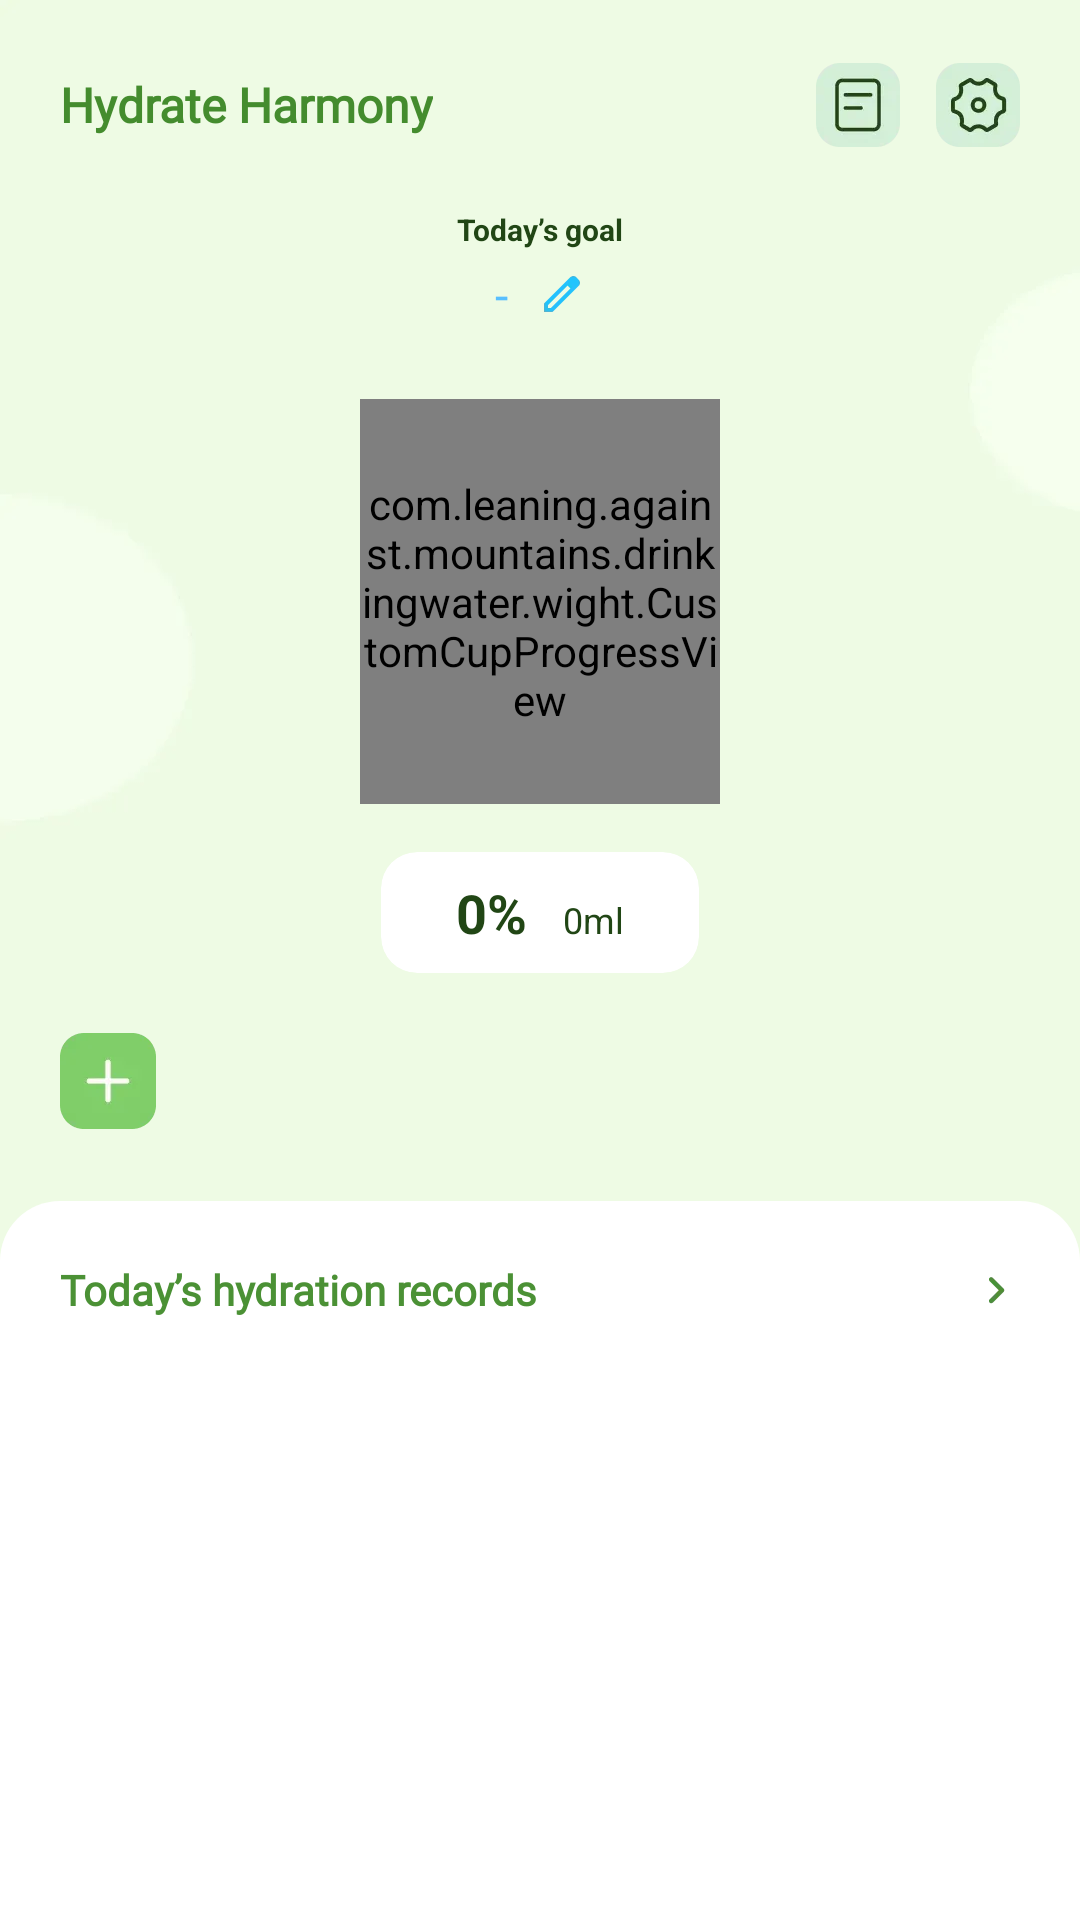

Screen size 1080 x 1920. Icon name, then its box in pixels as bbox=(x1, y1, x2, y2):
add: bbox=(60, 1033, 156, 1129)
his: bbox=(816, 63, 900, 147)
set: bbox=(936, 63, 1020, 147)
